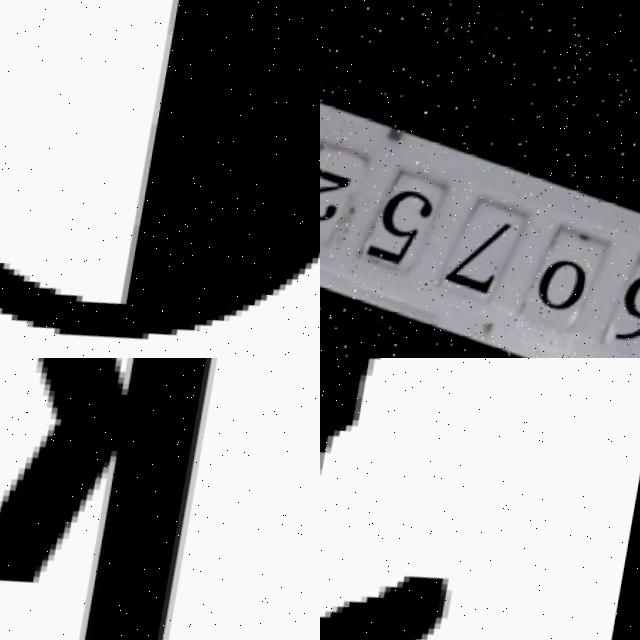0: (521, 235, 618, 357)
2: (320, 142, 374, 261)
5: (359, 173, 456, 295)
6: (601, 261, 640, 358)
7: (320, 358, 634, 640), (439, 203, 534, 321)
K: (0, 358, 250, 640)
